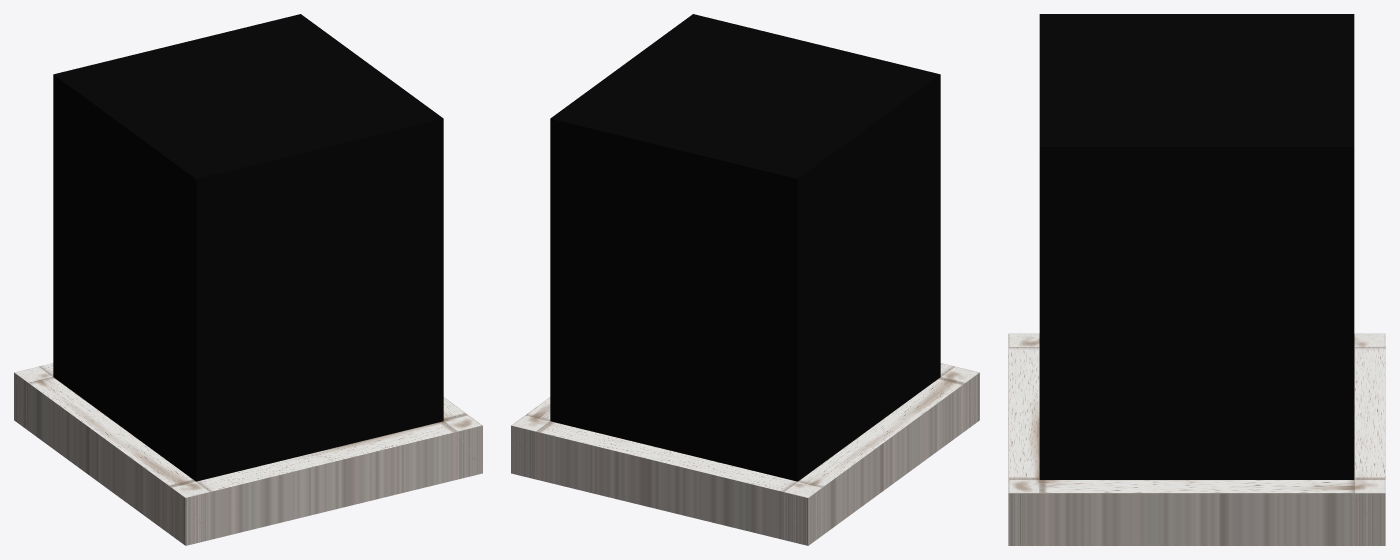
Rendered from OfficeCellingAbyss.fbx.
3 views of the same model, side by side, from view 1: azimuth 30°, elevation 25°; view 2: azimuth 150°, elevation 25°; view 3: azimuth 270°, elevation 25° (orthographic). The views are drawn at different scales.
Visible parts, largest first — view 1: Cube.037; view 2: Cube.037; view 3: Cube.037.
Boxes of the visible parts, x1,y1,x2,y2 form: Cube.037: [14, 14, 482, 545]; Cube.037: [511, 14, 979, 545]; Cube.037: [1008, 14, 1385, 545].
Bounding box in the file's own units: 650 × 743 × 650.
2 materials, 1 textured.
